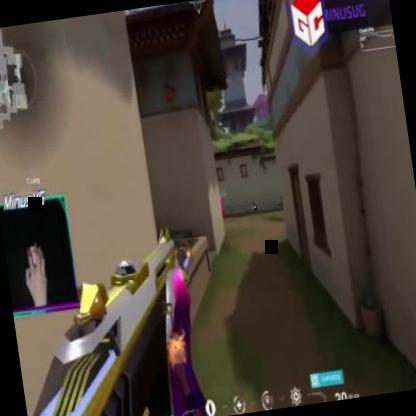enemy: (216, 190, 226, 221)
